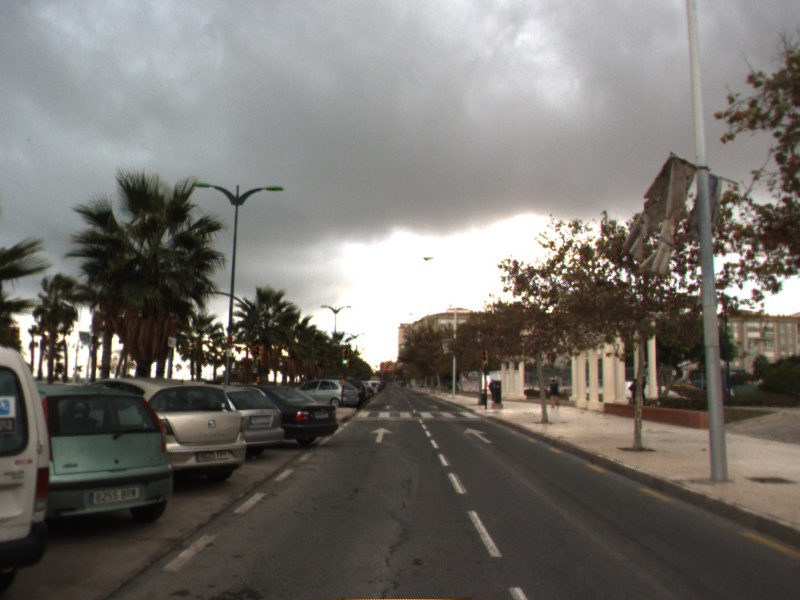STRAIGHT: (462, 426, 494, 445), (369, 426, 395, 444)
